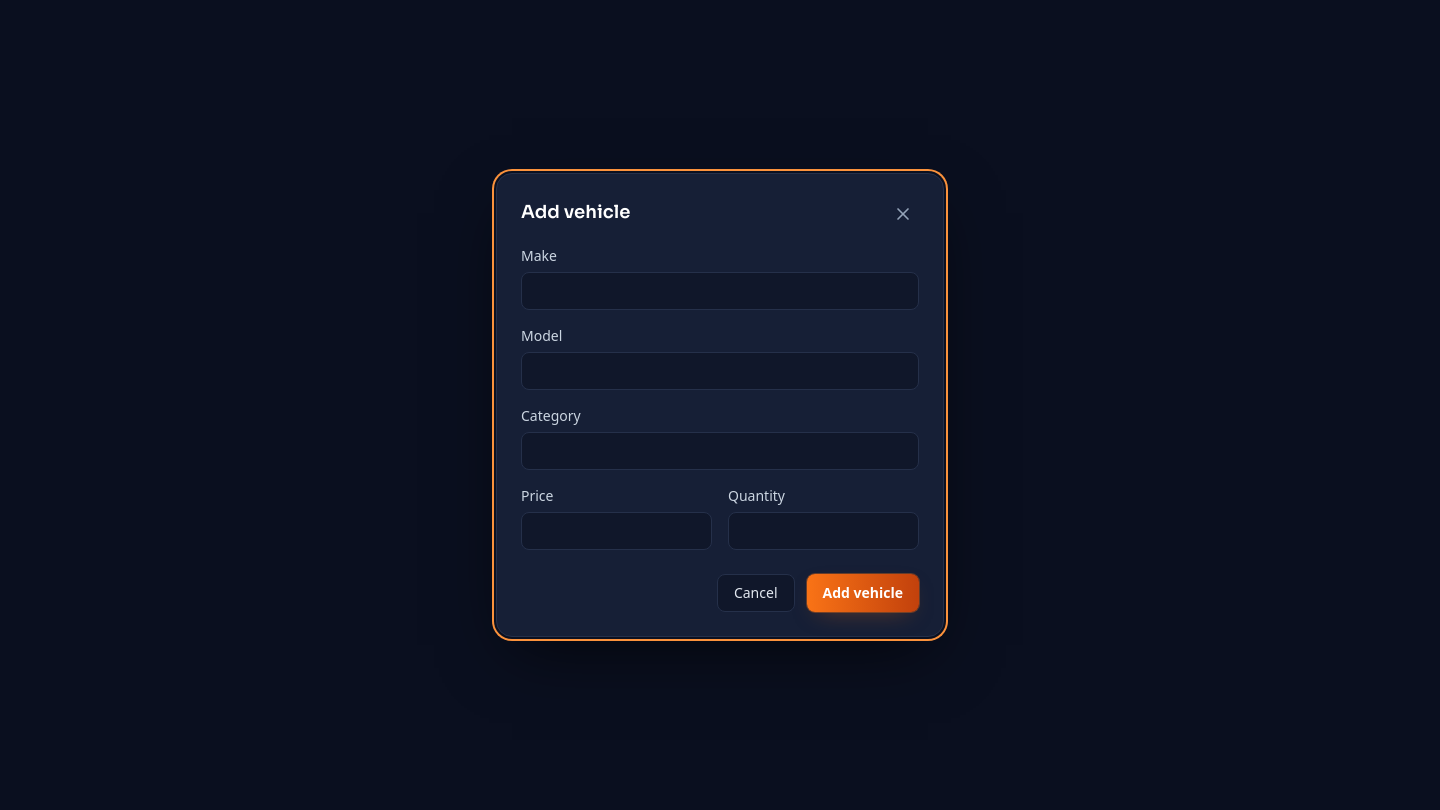
VehicleFormModal › shows the server error inside the modal
Type "Honda" into the field labelled "Make" at coordinates (720, 291), box [521,272,919,310]
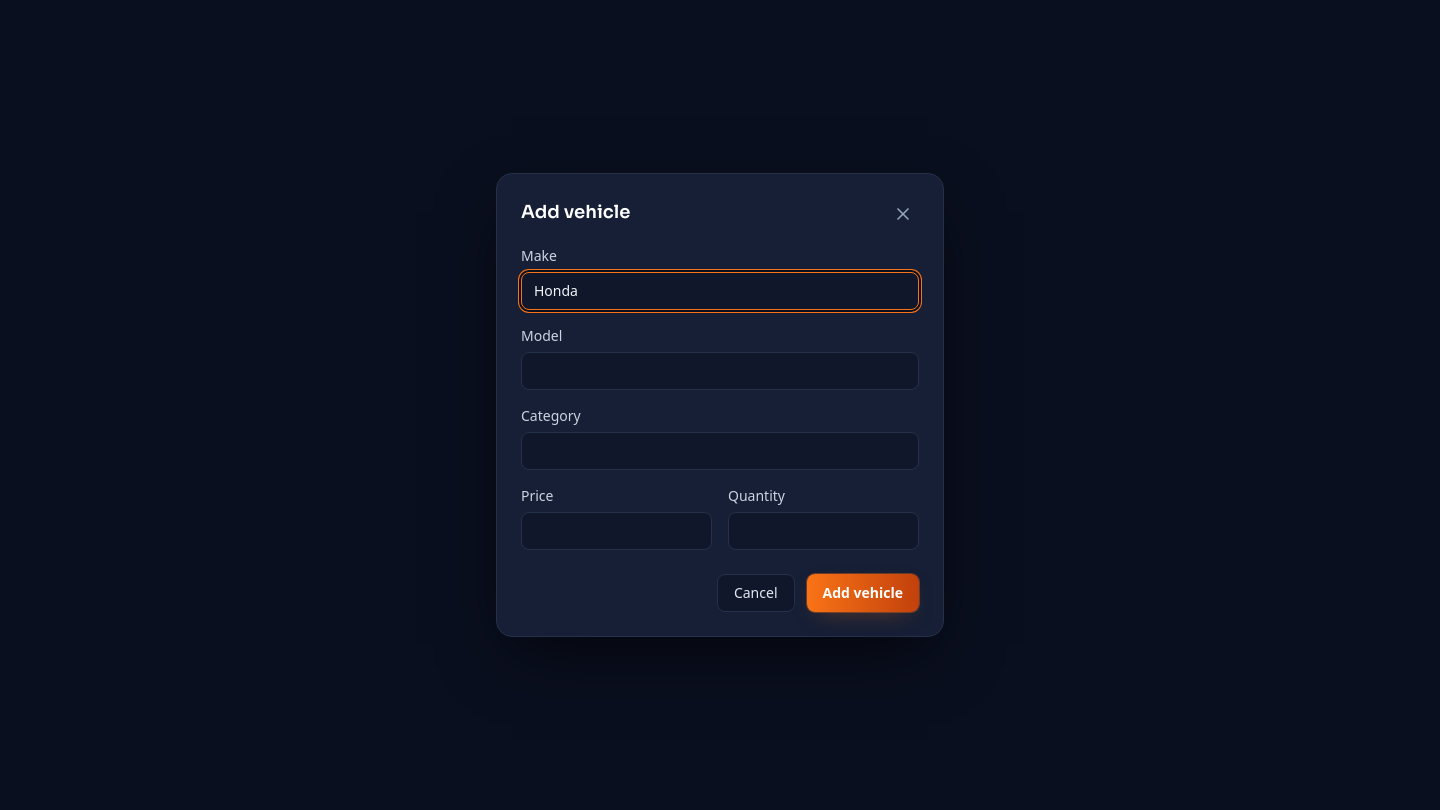
Type "Civic" into the field labelled "Model" at coordinates (720, 371), box [521,352,919,390]
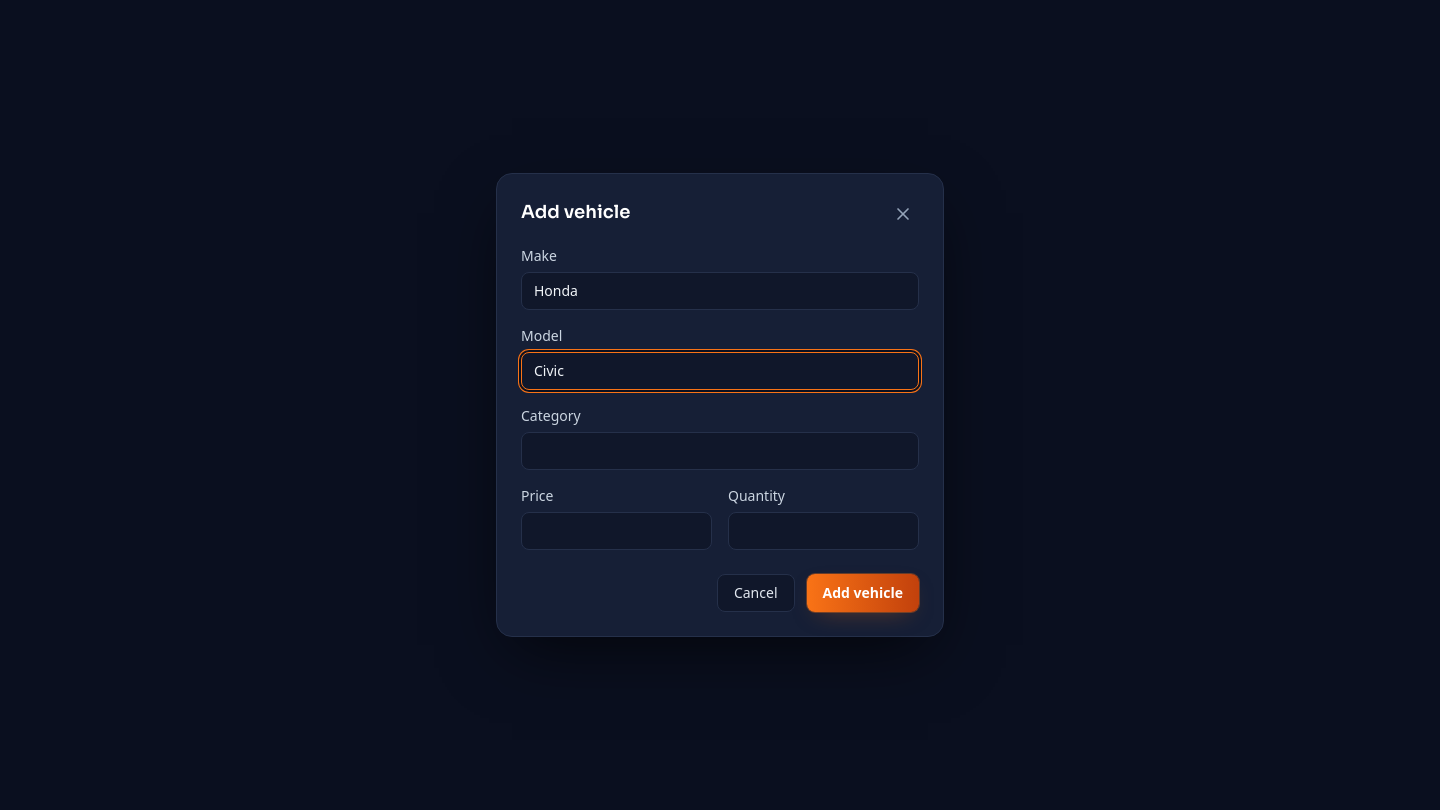
Type "Sedan" into the field labelled "Category" at coordinates (720, 451), box [521,432,919,470]
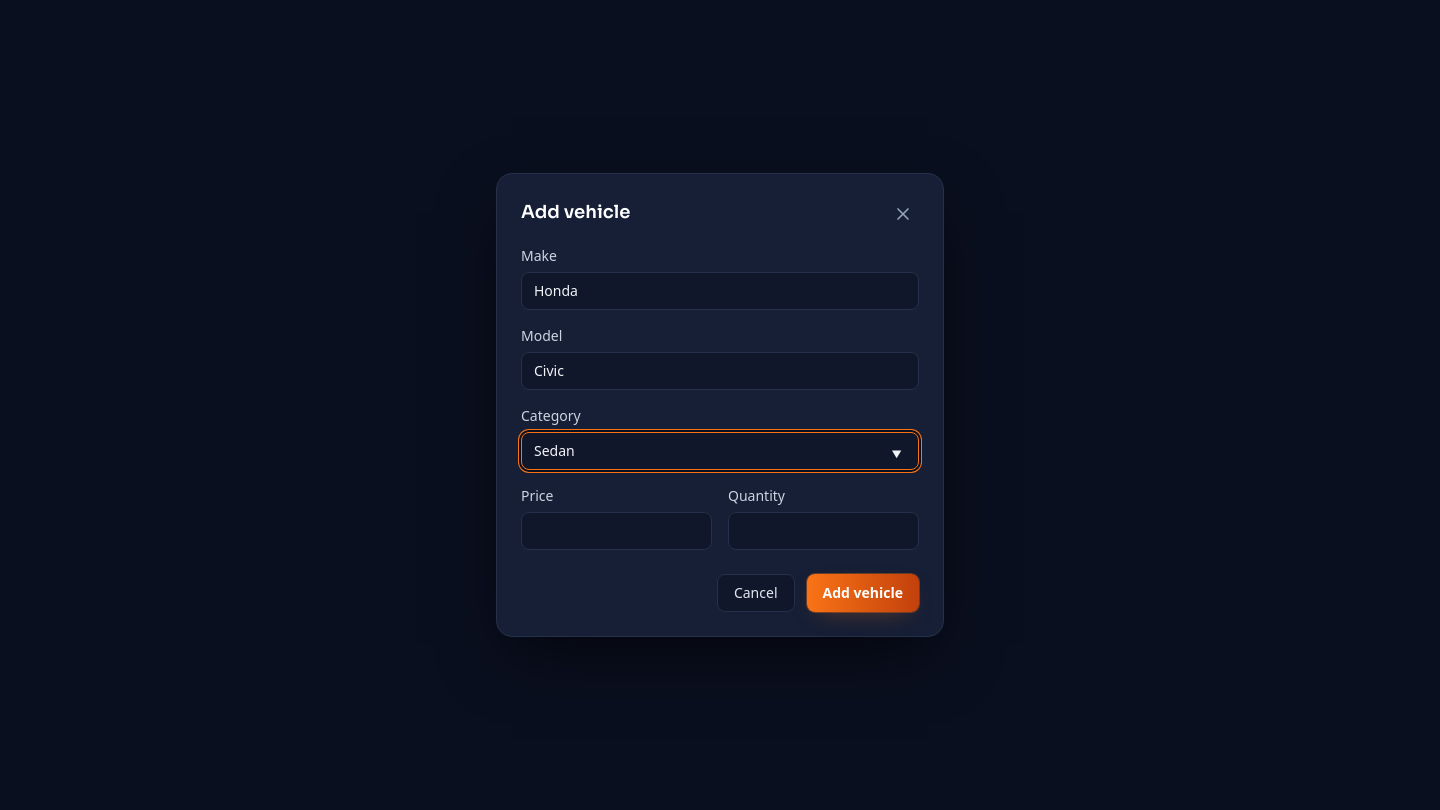
Type "22000" into the number field labelled "Price" at coordinates (616, 531), box [521,512,712,550]
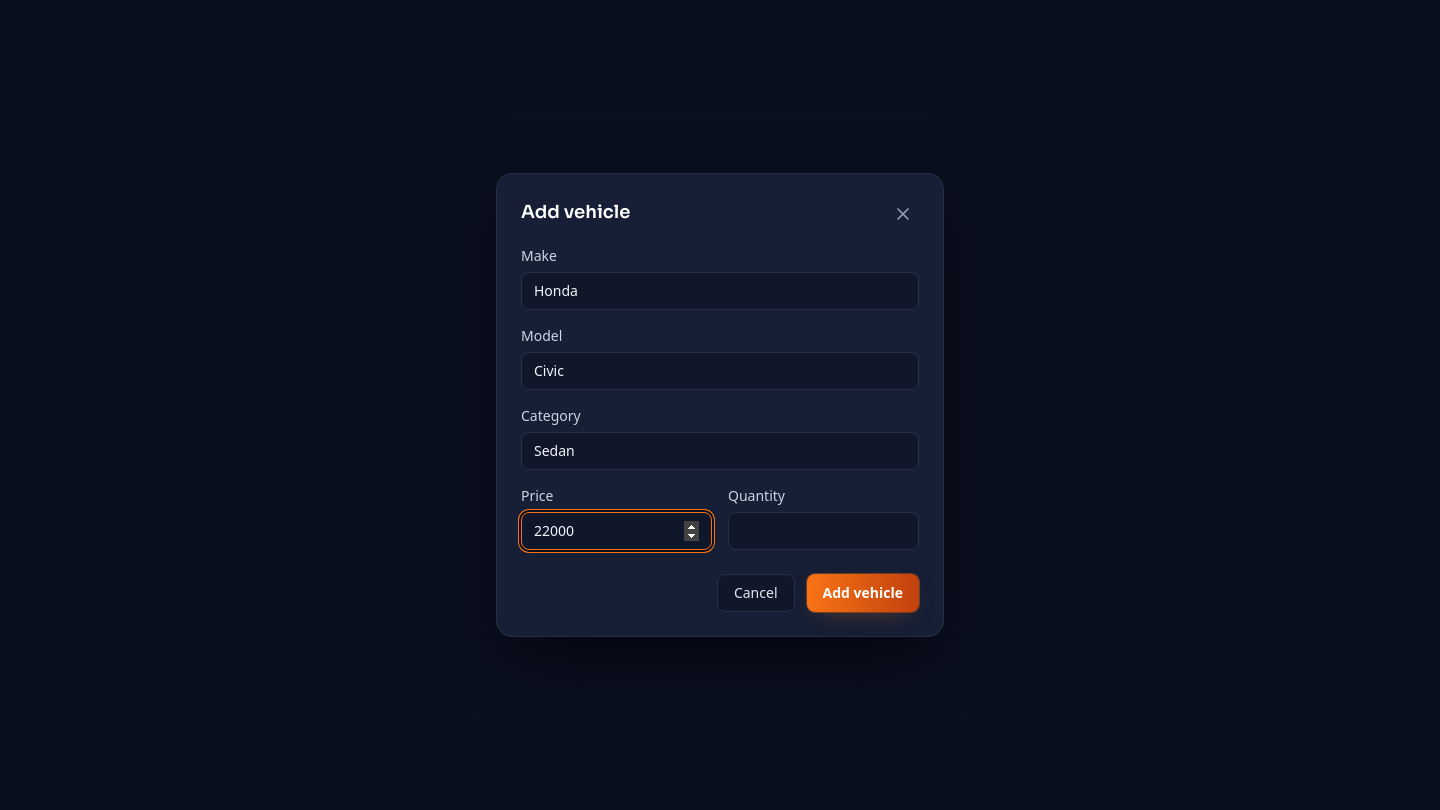
Type "3" into the number field labelled "Quantity" at coordinates (824, 531), box [728,512,919,550]
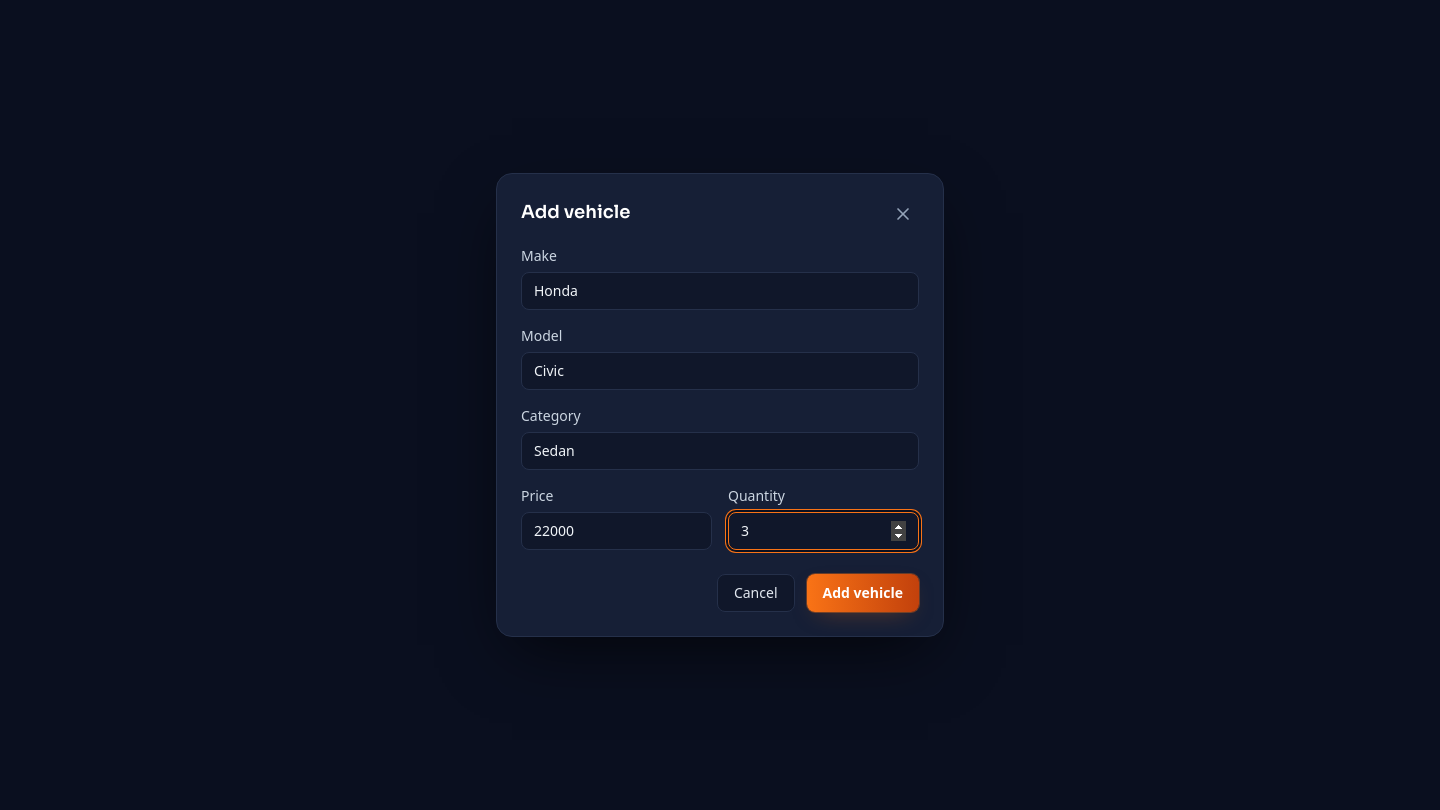
Click the button "Add vehicle" at coordinates (863, 593), box [806,574,919,612]
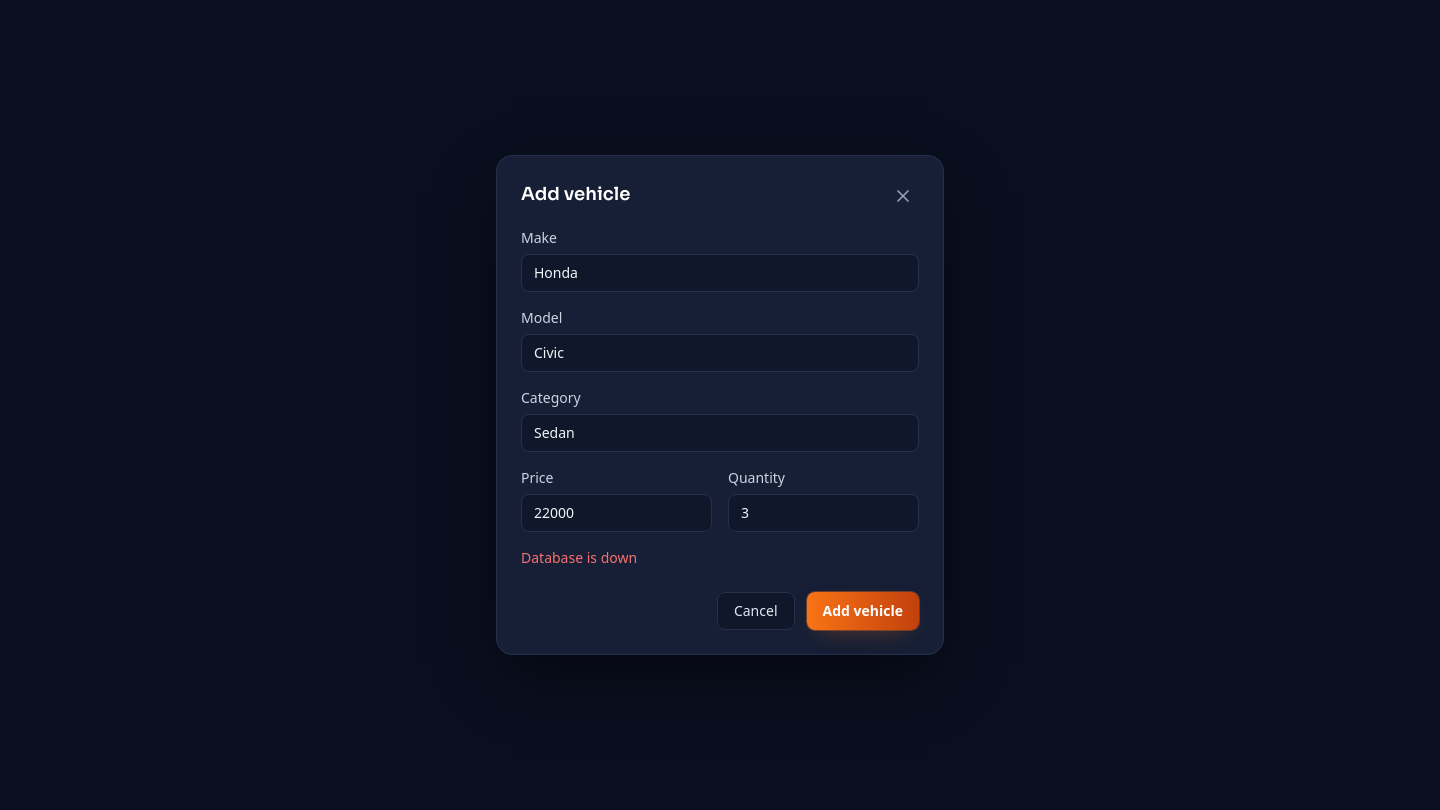
Result: the text "Database is down" is shown at [521,548,637,567]
